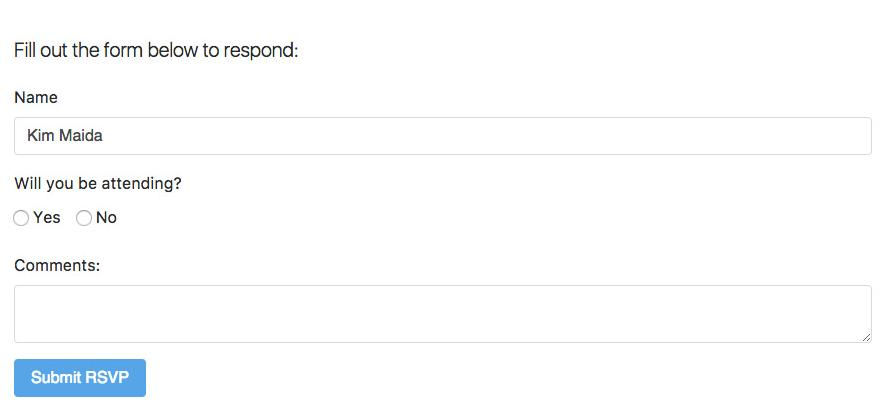button: (11, 355, 151, 401)
field: (9, 283, 878, 346), (10, 115, 872, 159)
field_with_label: (6, 258, 882, 349), (7, 91, 875, 162)
radio: (12, 207, 34, 228), (77, 207, 95, 228)
radio_with_label: (6, 204, 59, 231), (74, 204, 115, 231)
